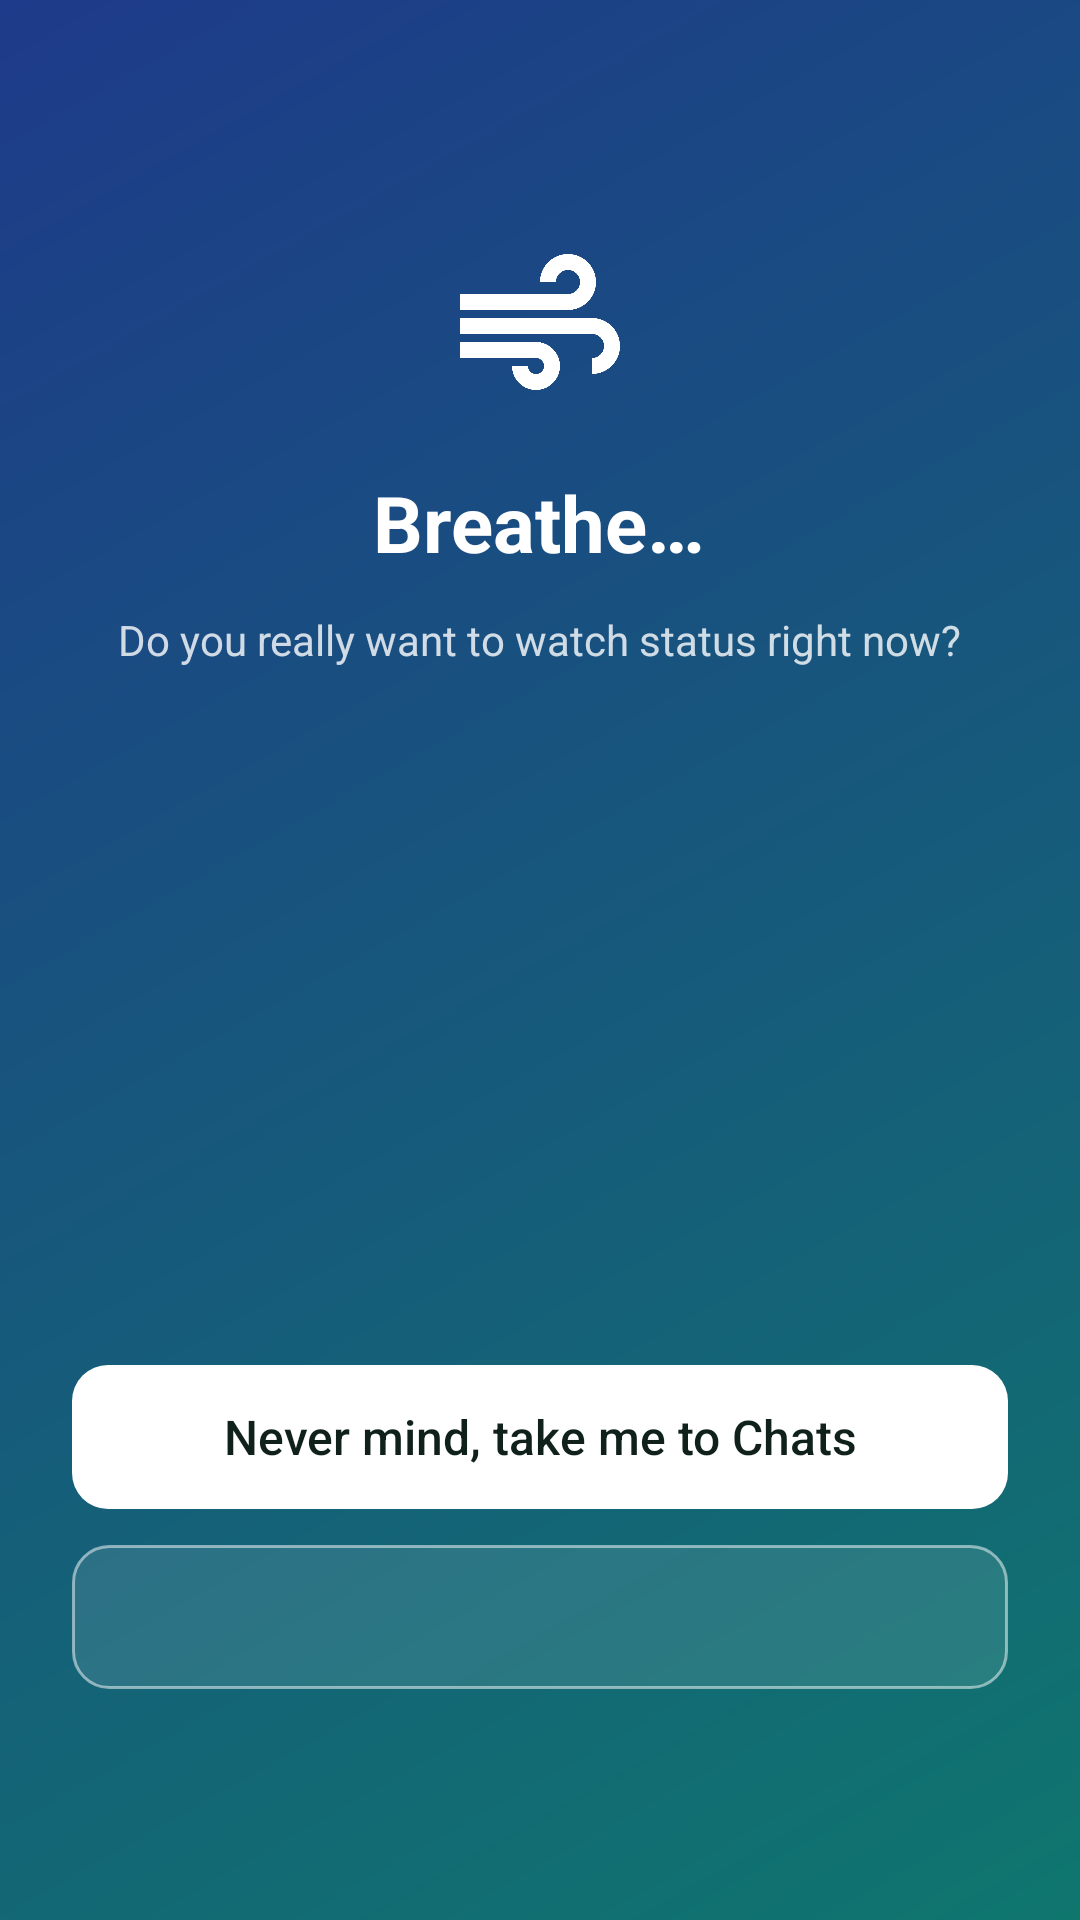

Screen size 1080px x 1920px. Icon name, then its box in pixels as region(x1, y1, x2, y2):
air: region(460, 254, 620, 390)
